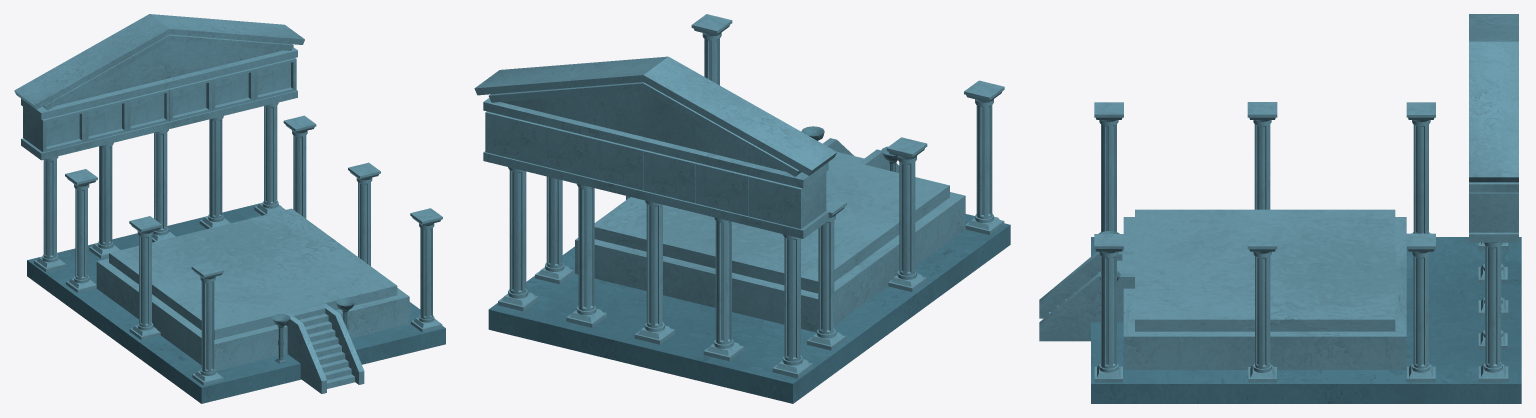
Rendered from battle_2.fbx.
3 renders of one model, left to right at view 1: azimuth 30°, elevation 25°; view 2: azimuth 150°, elevation 25°; view 3: azimuth 270°, elevation 25°, orthographic. The views are drawn at different scales.
Parts seen in each view (by area): view 1: Box2351; view 2: Box2351; view 3: Box2351.
Boxes of the visible parts, <box> form: Box2351: <box>14,14,445,403</box>; Box2351: <box>474,14,1010,403</box>; Box2351: <box>1039,14,1521,403</box>.
Size of the model in its own units: 3547 by 4431 by 2953.
2 materials, 2 textured.
